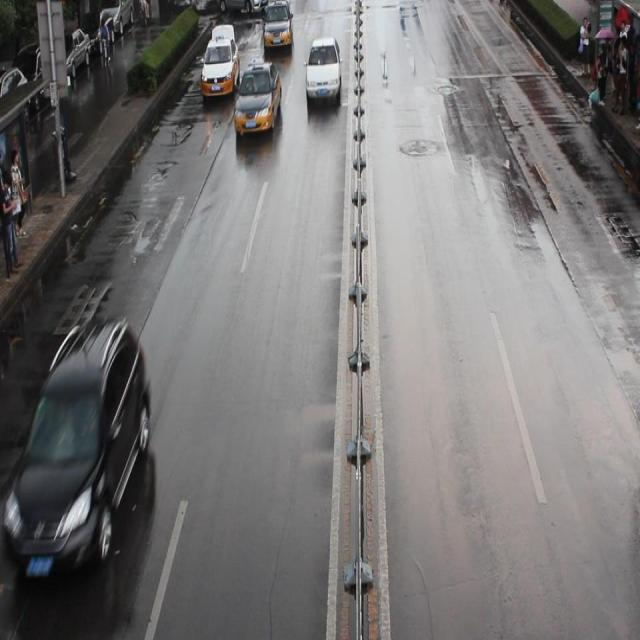car: (12, 314, 150, 584), (233, 62, 281, 136), (200, 37, 240, 98), (304, 37, 341, 99), (262, 1, 293, 50), (213, 1, 264, 13)
